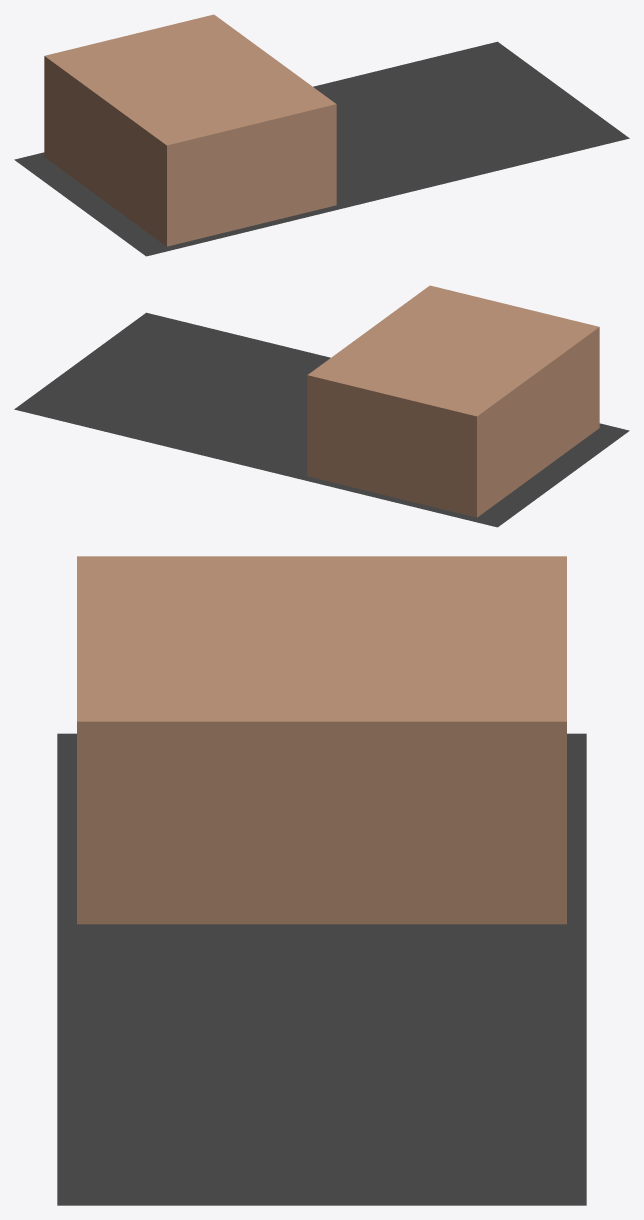
File: city_left1.glb
3 renders of one model, top to bottom at view 1: azimuth 30°, elevation 25°; view 2: azimuth 150°, elevation 25°; view 3: azimuth 270°, elevation 25°, orthographic. The views are drawn at different scales.
Visible parts, largest first — view 1: Cube.009, Plane.007; view 2: Cube.009, Plane.007; view 3: Cube.009, Plane.007.
Part boxes in pixels (<box>): Cube.009: <box>44,14,336,246</box>; Plane.007: <box>14,41,629,256</box>; Cube.009: <box>307,285,599,517</box>; Plane.007: <box>14,312,629,527</box>; Cube.009: <box>77,556,566,924</box>; Plane.007: <box>57,733,586,1205</box>.
Bounding box in the file's own units: 57 × 11.39 × 27.
